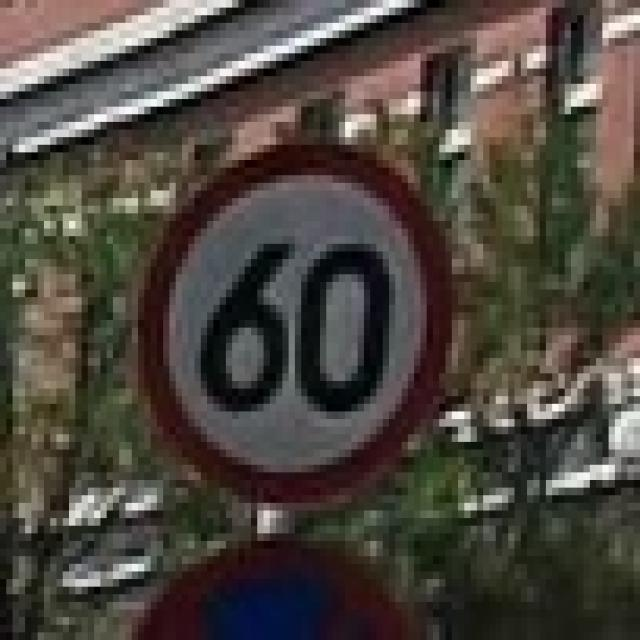Speed Limit -60-: (195, 239, 403, 421)
